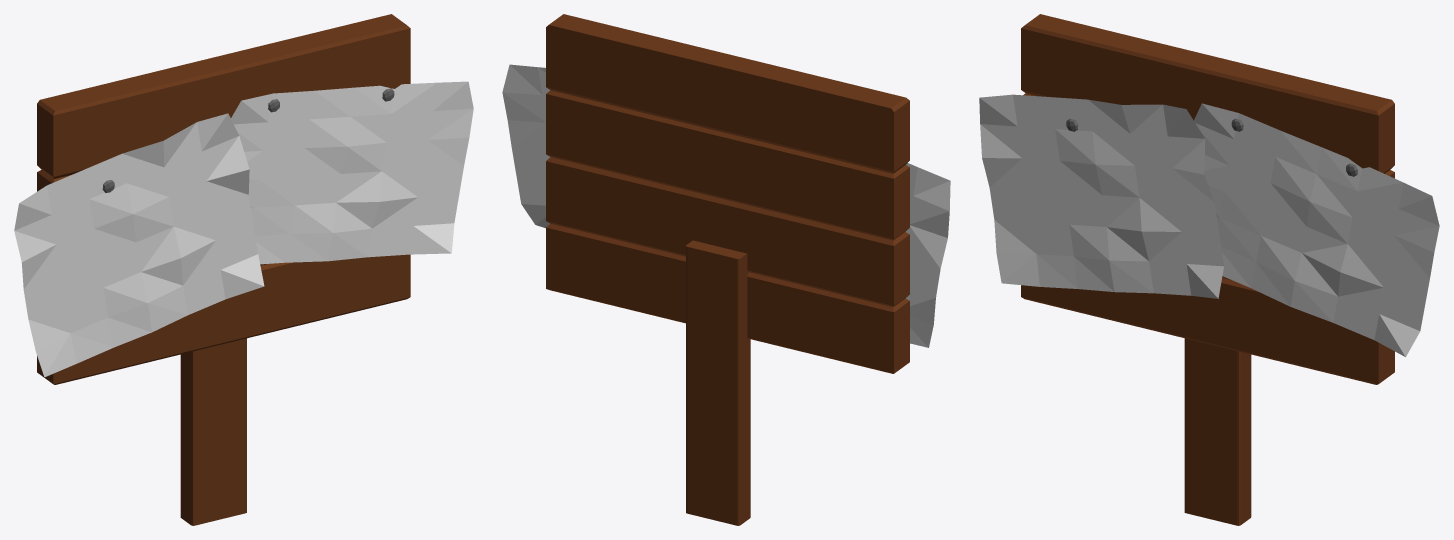
File: Sign1.fbx
3 renders of one model, left to right at view 1: azimuth 30°, elevation 25°; view 2: azimuth 150°, elevation 25°; view 3: azimuth 330°, elevation 25°, orthographic. The views are drawn at different scales.
Visible parts, largest first — view 1: bild1, schild, bild2, pfosten; view 2: schild, pfosten, bild1, bild2; view 3: bild1, schild, bild2, pfosten.
Boxes of the visible parts, x1,y1,x2,y2 form: bild1: (14,113,264,377); schild: (37,14,410,384); bild2: (231,81,473,264); pfosten: (180,338,246,525); schild: (546,14,909,373); pfosten: (686,240,750,525); bild1: (905,163,950,347); bild2: (502,64,550,228); bild1: (979,94,1223,298); schild: (1021,14,1394,384); bild2: (1194,103,1439,357); pfosten: (1184,338,1251,525).
Bounding box in the file's own units: 351 × 335 × 41.51.
